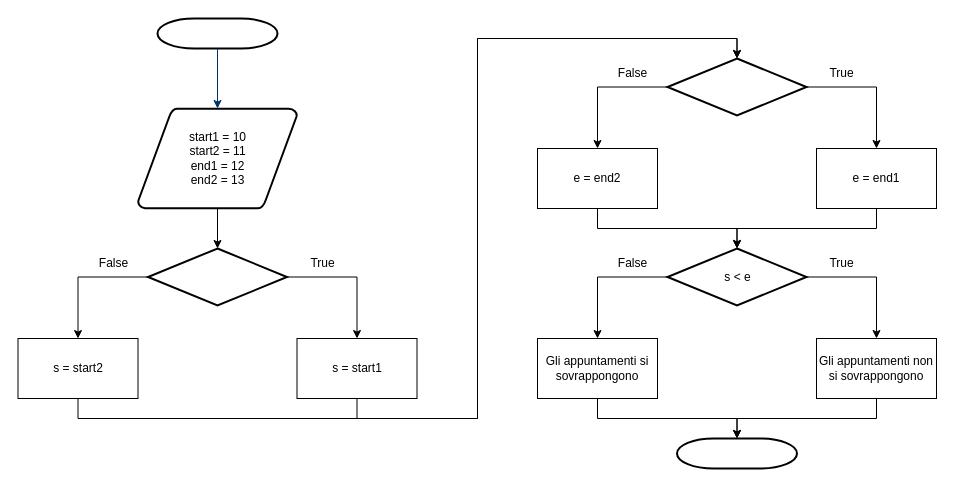
The diagram is 954 pixels wide and 486 high, and some of its shapes have lost their labels. The shapes that lost their labels are listed below. From the top down, each one's centre as x and y in pixels, then its label:
At pixel 217 33: "start".
At pixel 736 86: "end1 < end2".
At pixel 217 276: "start1 > start2".
At pixel 737 453: "stop".
